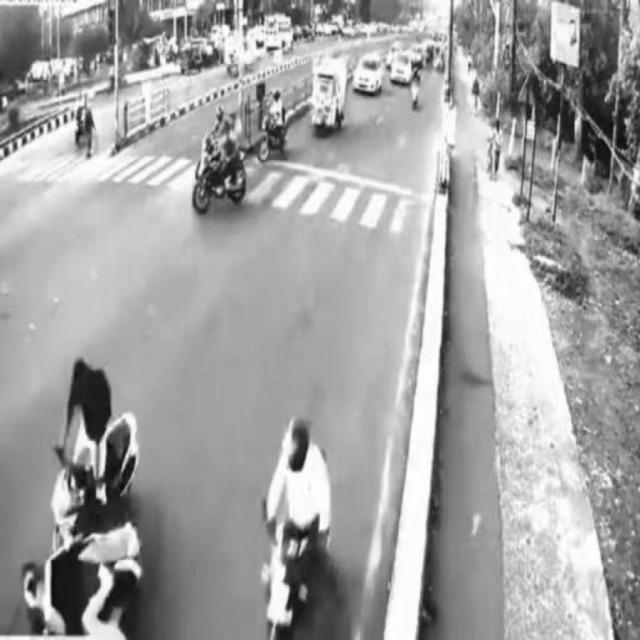accident: (25, 355, 151, 639)
vehicle: (259, 413, 345, 639), (191, 120, 248, 210), (311, 63, 349, 127), (258, 90, 292, 156), (356, 52, 383, 90)
